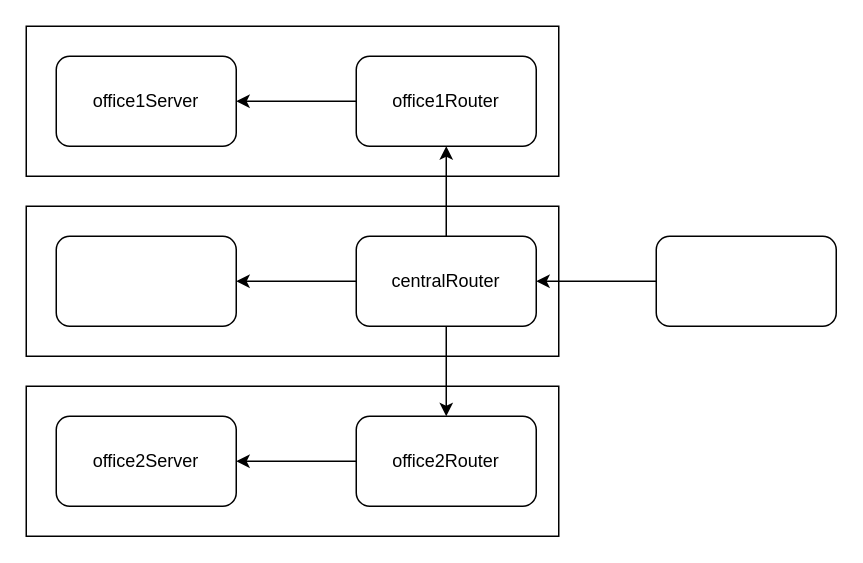
This 863x563 diagram has some shape labels left out. Here are the shapes that lost their labels. From the top down, the box of each, then its label:
(55, 235, 236, 326): centralServer
(655, 235, 836, 326): InetRouter
